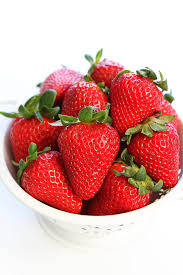strawberry: (57, 115, 121, 202), (18, 150, 88, 215), (127, 117, 182, 190), (109, 69, 165, 139), (6, 105, 66, 159), (93, 161, 151, 216), (60, 81, 112, 122)
